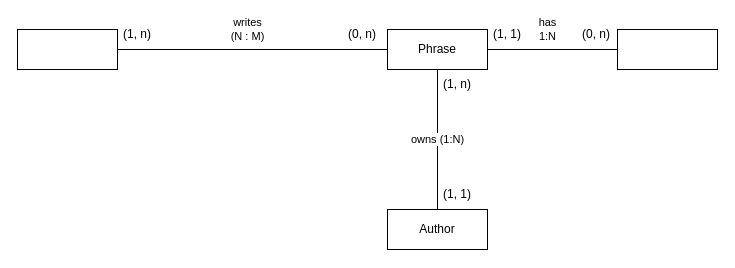
Some shapes in this 735 by 268 pixel diagram are drawn without their labels. The centre of each missing label's shape, as x and y in pixels:
"Tag" goes at point (667, 49).
"User" goes at point (67, 49).
